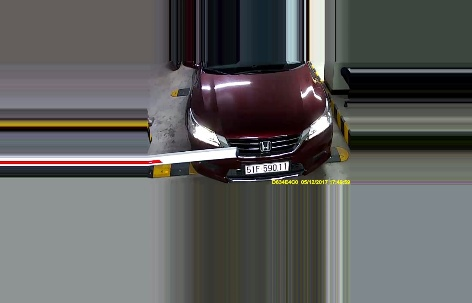plate: (244, 161, 292, 176)
